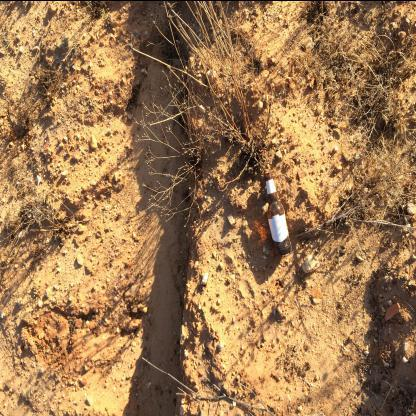cam: (265, 171, 293, 257)
